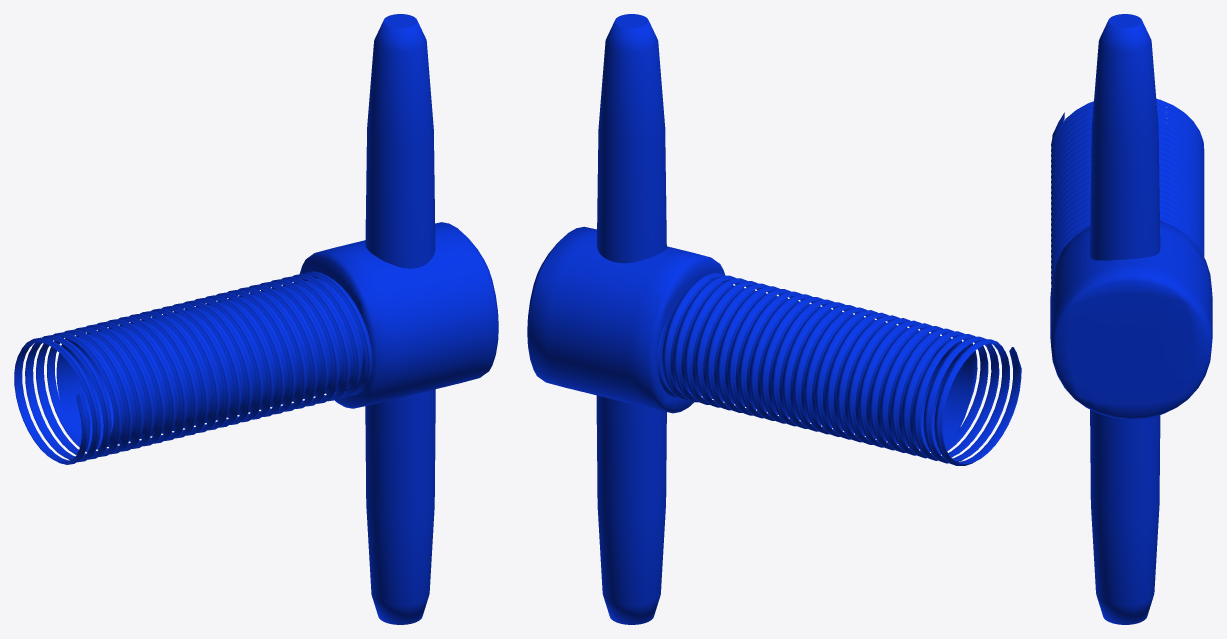
Rendered from Maneta.fbx.
The picture shows the model from 3 angles, left to right: view 1: azimuth 30°, elevation 25°; view 2: azimuth 150°, elevation 25°; view 3: azimuth 270°, elevation 25°; orthographic projection.
Visible parts, largest first — view 1: Maneta; view 2: Maneta; view 3: Maneta.
Boxes of the visible parts, x1,y1,x2,y2 form: Maneta: (14, 14, 498, 624); Maneta: (527, 14, 1021, 624); Maneta: (1050, 14, 1212, 624).
Size of the model in its own units: 0.1378 by 0.1868 by 0.0462.
